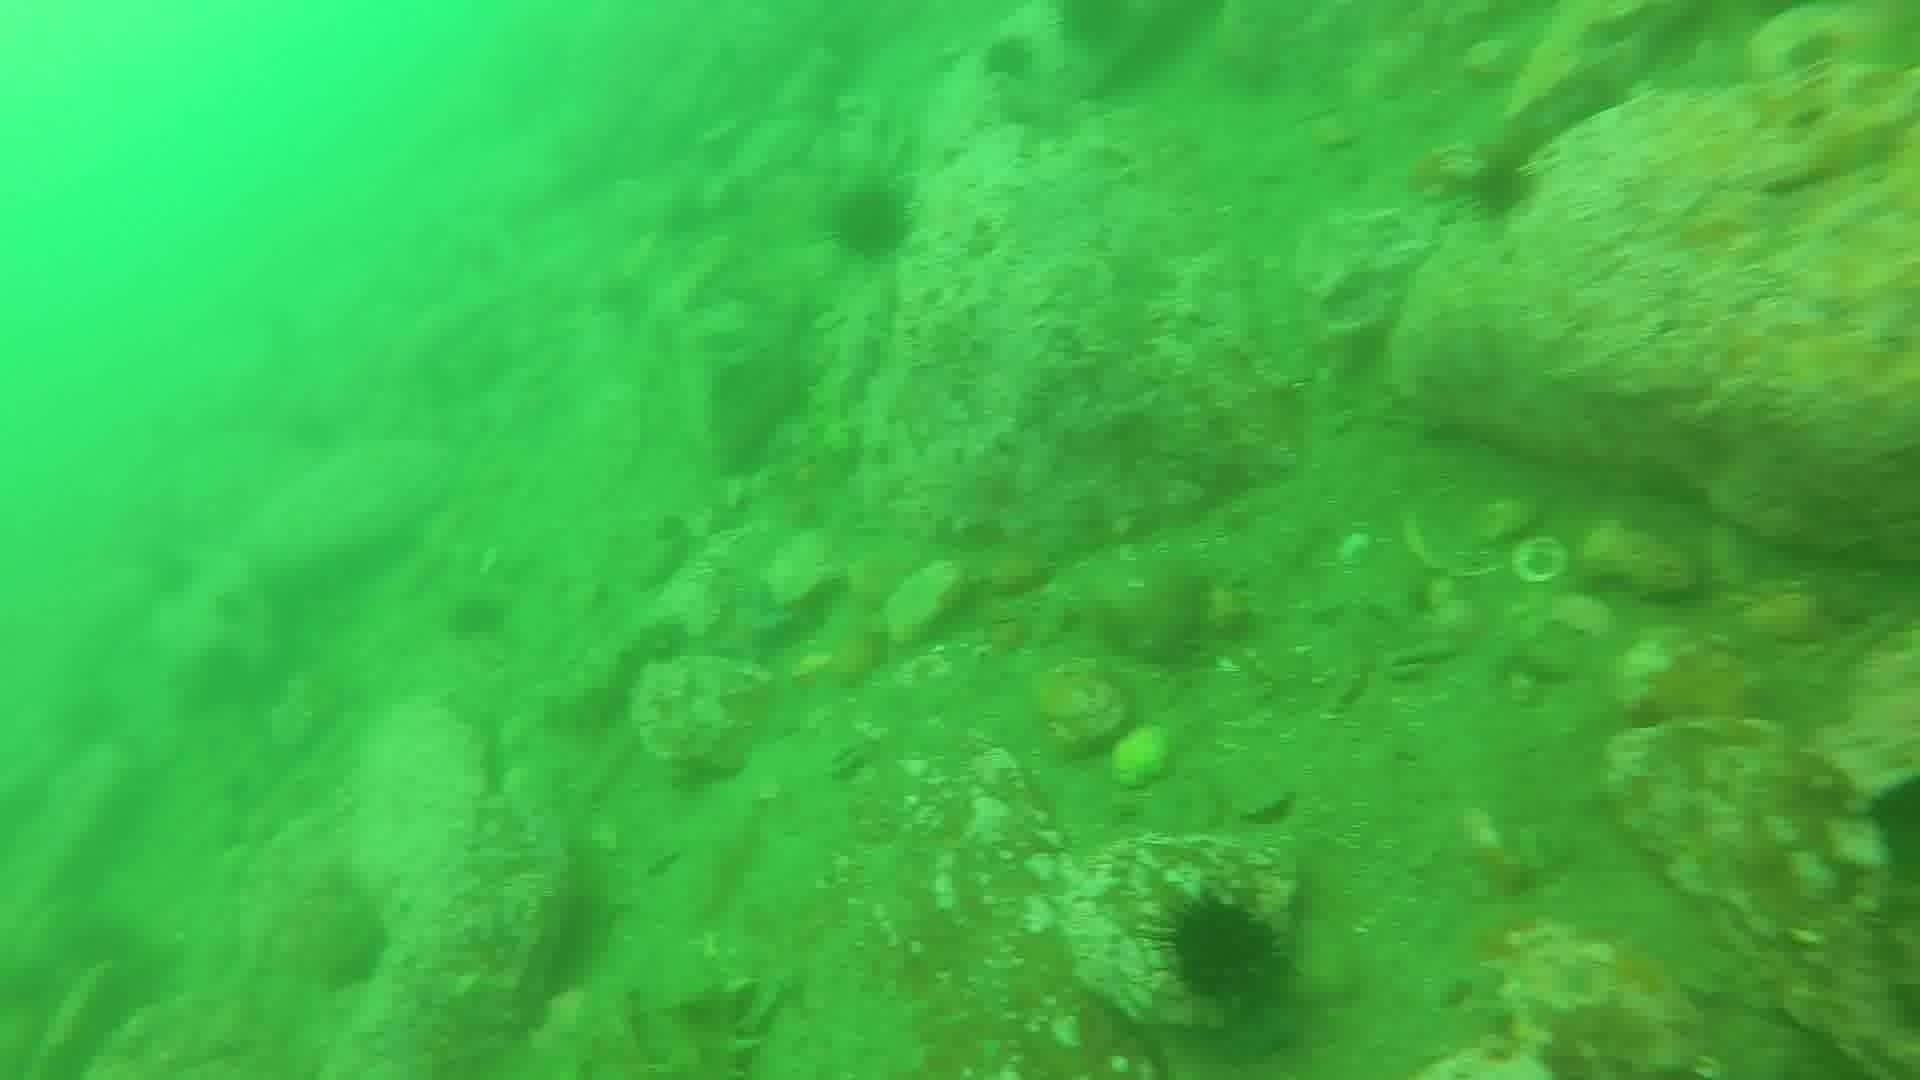echinus: (1153, 890, 1294, 1014), (824, 177, 916, 265), (1460, 149, 1543, 225), (1048, 1, 1143, 55), (442, 588, 514, 647), (976, 32, 1042, 88)
holothurian: (642, 975, 778, 1073)
starfish: (698, 583, 796, 673)
